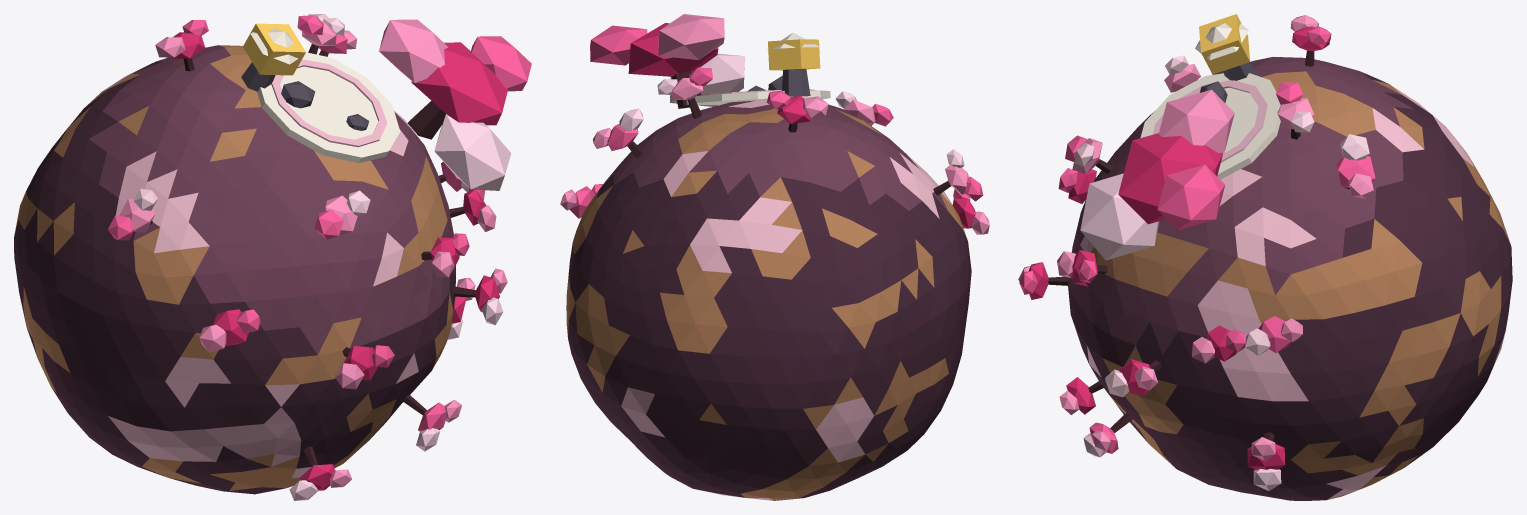
The model's file is Sakura_08.fbx.
3 renders of one model, left to right at view 1: azimuth 30°, elevation 25°; view 2: azimuth 150°, elevation 25°; view 3: azimuth 270°, elevation 25°, orthographic. The views are drawn at different scales.
Visible parts, largest first — view 1: Sakura_08; view 2: Sakura_08; view 3: Sakura_08.
Boxes of the visible parts, bbox=[...] form: Sakura_08: bbox=[14, 14, 531, 500]; Sakura_08: bbox=[560, 14, 989, 500]; Sakura_08: bbox=[1018, 14, 1512, 500].
Bounding box in the file's own units: 6.77 × 6.98 × 6.76.
1 material, 1 textured.
